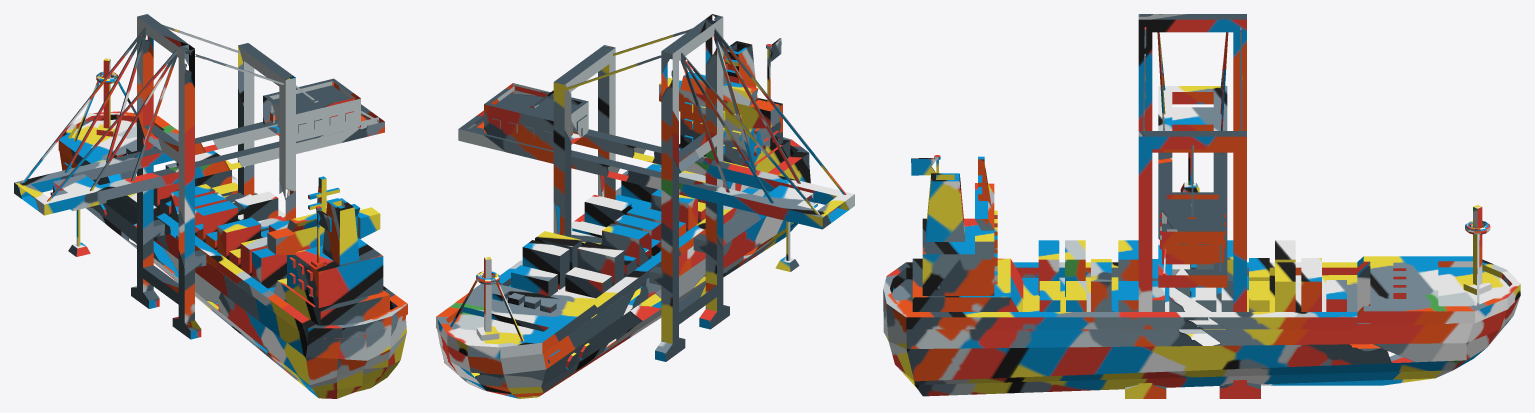
File: Port_1.fbx
3 views of the same model, side by side, from view 1: azimuth 30°, elevation 25°; view 2: azimuth 150°, elevation 25°; view 3: azimuth 270°, elevation 25° (orthographic). The views are drawn at different scales.
Visible parts, largest first — view 1: group1196106066, group832697602; view 2: group1196106066, group832697602; view 3: group1196106066, group832697602.
Part boxes in pixels (x1,y1,x2,y2): group1196106066: [58, 58, 407, 398]; group832697602: [14, 14, 384, 339]; group1196106066: [436, 38, 810, 398]; group832697602: [458, 14, 854, 361]; group1196106066: [883, 155, 1520, 396]; group832697602: [1125, 14, 1260, 398].
Bounding box in the file's own units: 260 × 212 × 370.
Materials: 1 (1 with a texture image).
